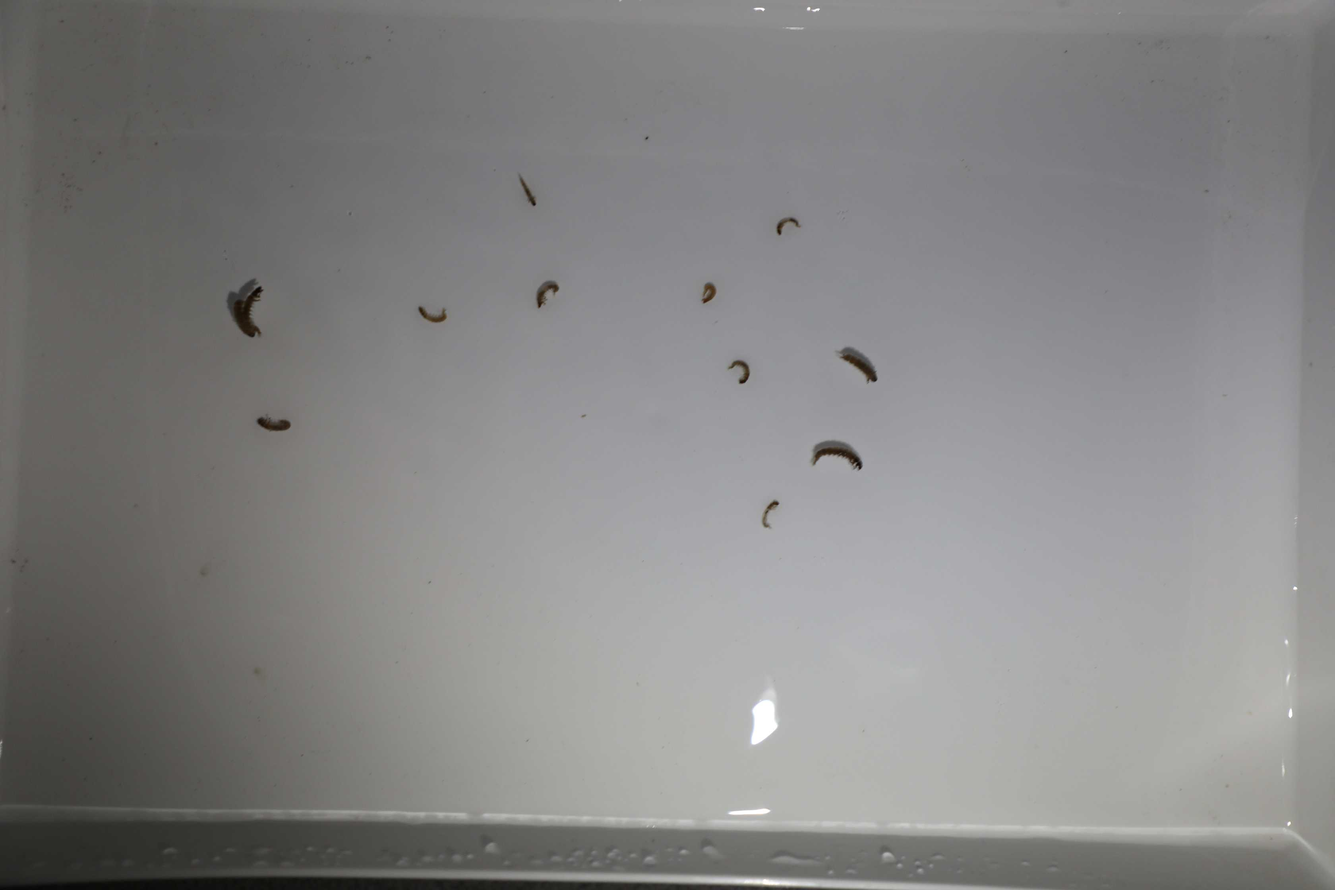Cadisfly: (226, 274, 269, 345), (804, 434, 865, 474), (836, 343, 880, 388), (528, 277, 561, 314), (755, 494, 783, 535), (515, 172, 543, 211), (727, 352, 753, 390), (694, 276, 723, 309), (416, 301, 452, 327), (769, 213, 804, 238), (253, 411, 291, 434)
